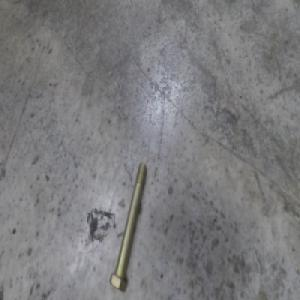Bolt: (111, 158, 147, 293)
